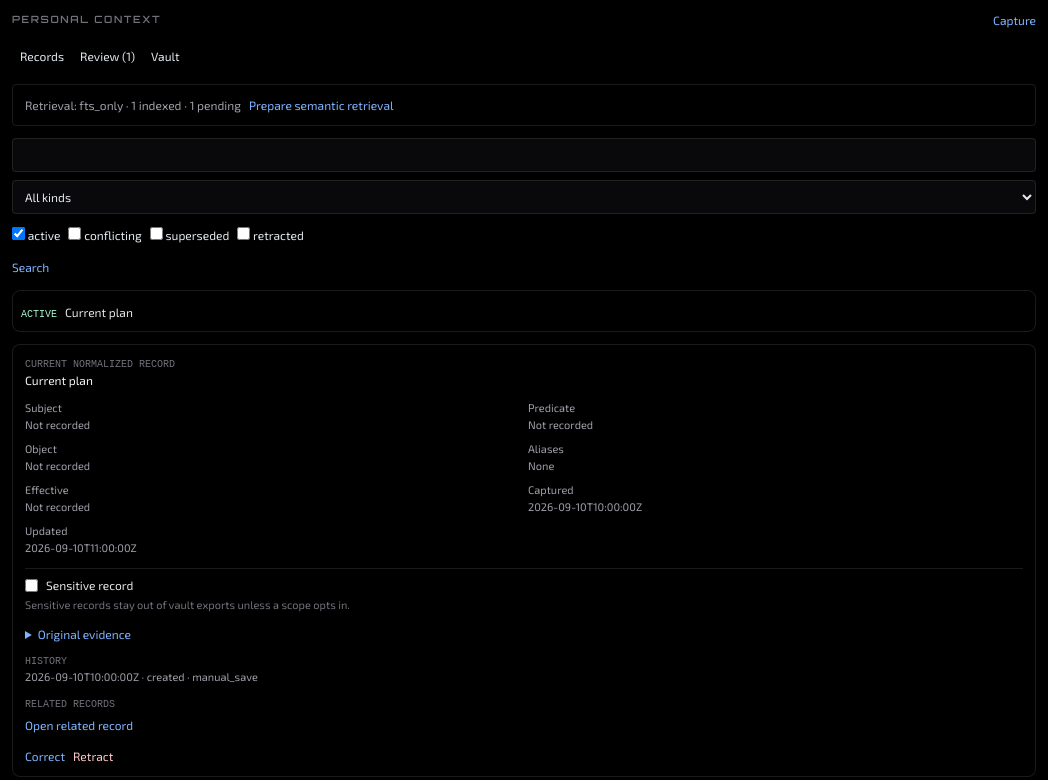
CortexContext › summarizes retract proposals without text
Click the tab "Review (1)" at (108, 56), box x1=72 y1=40 x2=143 y2=72
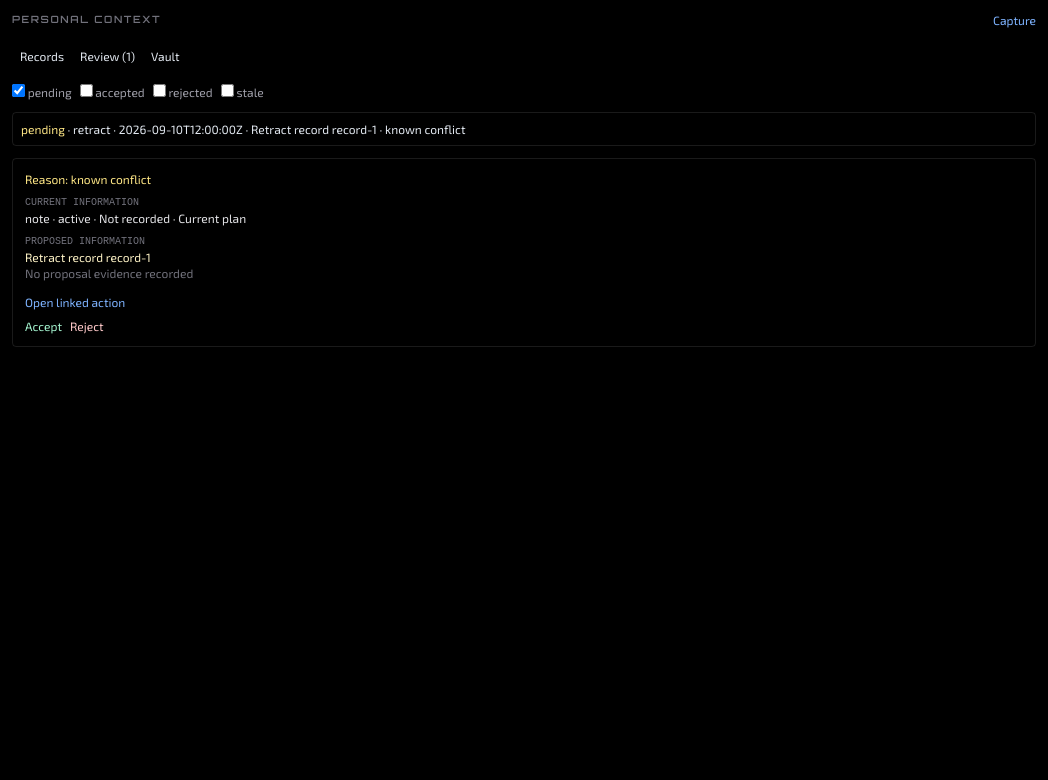
Expected: the button "Retract record record-1" is shown, x1=12 y1=112 x2=1036 y2=146
Expected: the text "Retract record record-1" is shown, x1=25 y1=250 x2=151 y2=264
Expected: the text "No proposal evidence recorded" is shown, x1=25 y1=266 x2=193 y2=280
